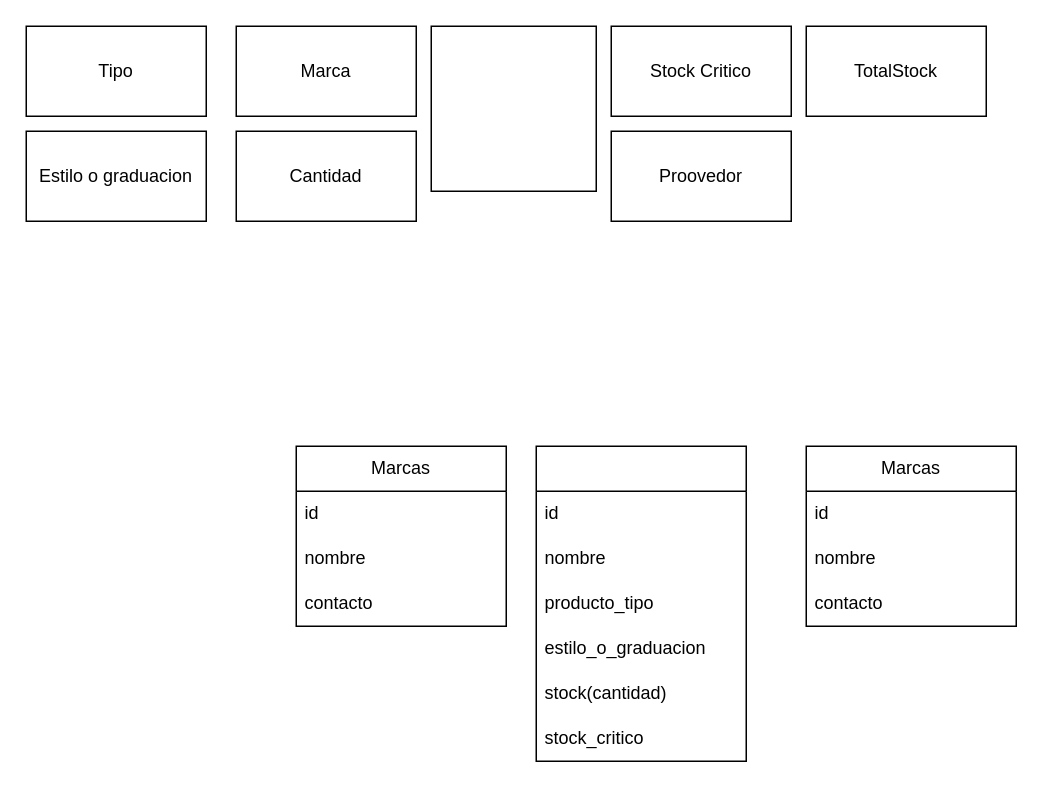
This 1043x788 diagram has some shape labels left out. Here are the shapes that lost their labels. From the top down, the box of each, then its label:
(430, 25, 596, 191): Licor
(535, 445, 746, 761): Licores
